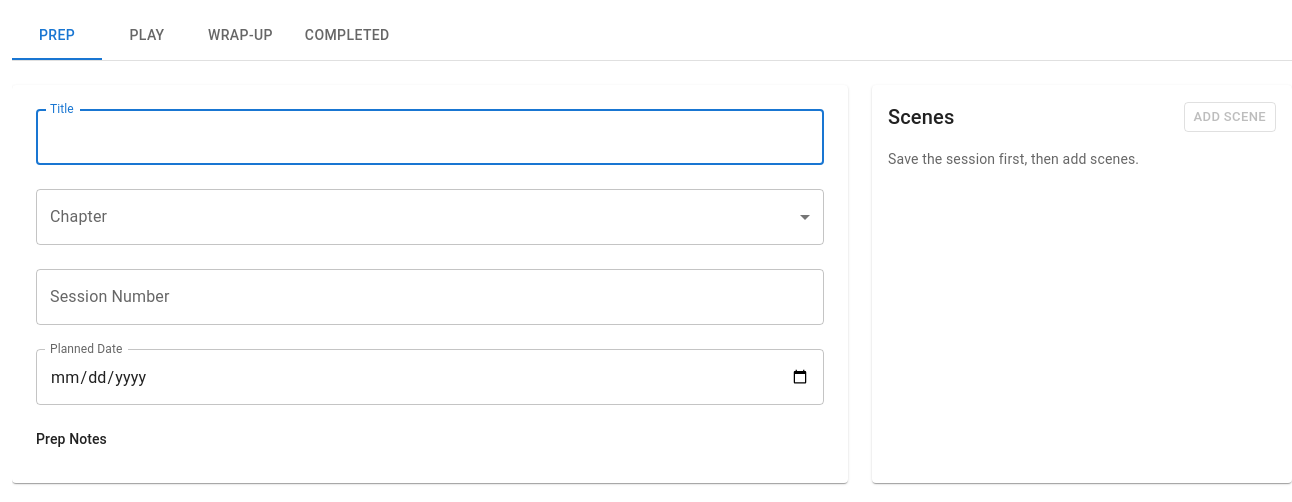
Test: SessionEditorPage › shows placeholder for Wrap-up tab
The image size is (1292, 502).
Click the tab "Wrap-up".
click(240, 36)  # box [192,12,289,60]
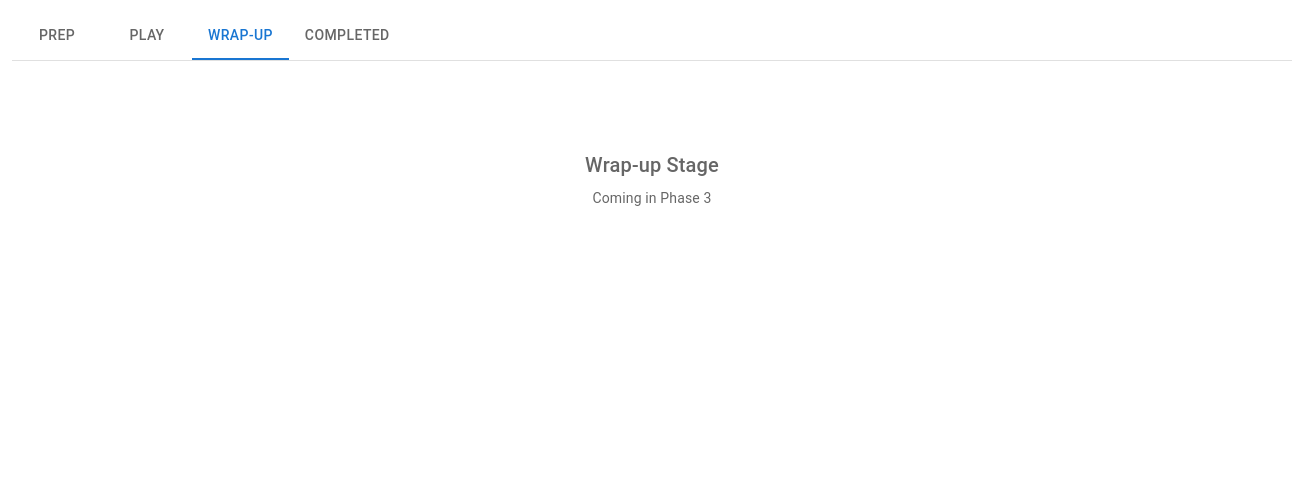
Expected: the heading "Wrap-up Stage" is shown, [585,149,719,181]
Expected: the text "Coming in Phase 3" is shown, [592,188,712,208]
